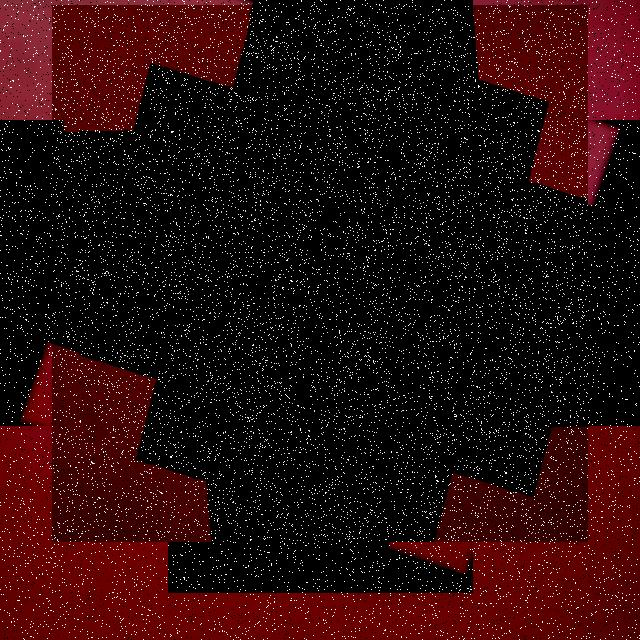lima puluh ribu rupiah: (52, 5, 588, 542)
